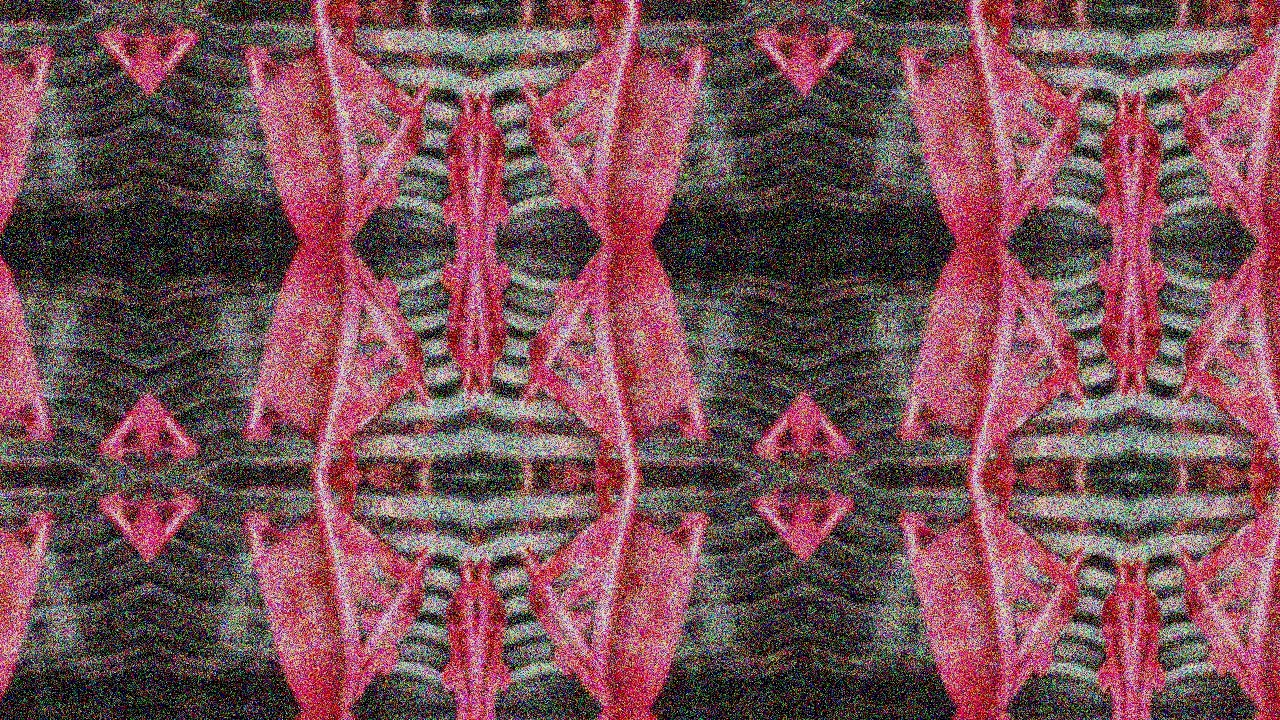chock: (194, 243, 460, 477), (492, 243, 758, 477), (850, 243, 1116, 477), (194, 10, 460, 243), (492, 10, 758, 243), (850, 10, 1116, 243), (194, 477, 460, 710), (492, 477, 758, 710), (850, 477, 1116, 710), (1148, 243, 1280, 477), (1148, 10, 1280, 243), (1148, 477, 1280, 710), (0, 243, 102, 477), (0, 10, 102, 243), (0, 477, 102, 710)
